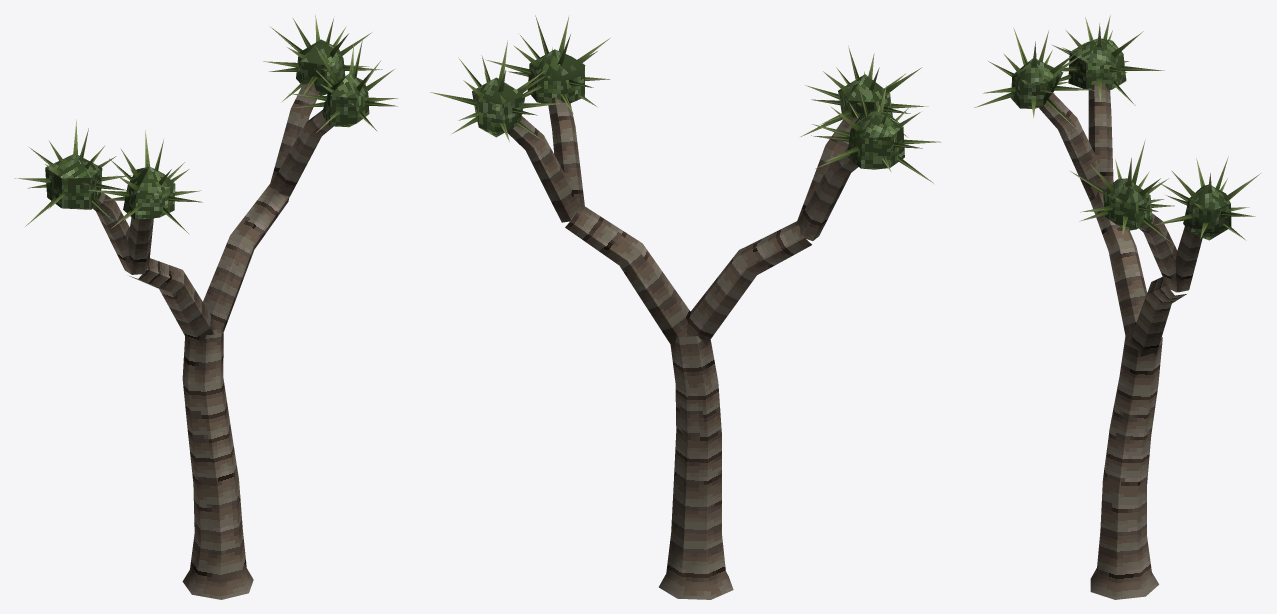
The model's file is joshua_tree.glb.
3 renders of one model, left to right at view 1: azimuth 30°, elevation 25°; view 2: azimuth 150°, elevation 25°; view 3: azimuth 270°, elevation 25°, orthographic. The views are drawn at different scales.
Visible parts, largest first — view 1: joshua_tree_crown, joshua_tree; view 2: joshua_tree_crown, joshua_tree; view 3: joshua_tree_crown, joshua_tree.
Boxes of the visible parts, box(x1,y1,x2,y2) form: joshua_tree_crown: box(14, 14, 398, 344); joshua_tree: box(182, 328, 253, 599); joshua_tree_crown: box(430, 15, 941, 348); joshua_tree: box(659, 335, 733, 599); joshua_tree_crown: box(974, 15, 1260, 356); joshua_tree: box(1090, 334, 1162, 599).
Size of the model in its own units: 3.55 by 4.29 by 2.25.
Materials: 2 (2 with a texture image).
